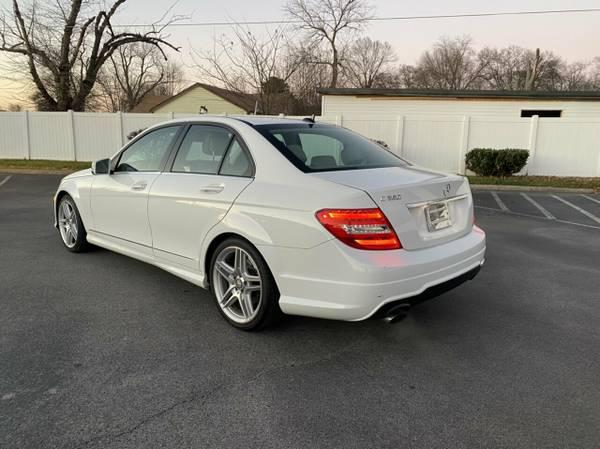Front_Fender: (54, 170, 94, 244)
Front_Left_Door: (93, 170, 163, 264)
Front_Left_Window: (103, 124, 183, 171)
Left_Taillight: (318, 207, 405, 250)
Rear_Bumper: (254, 224, 485, 319)
Rear_Fender: (212, 175, 376, 247)
Rear_Left_Door: (148, 173, 255, 288)
Rear_Left_Window: (161, 123, 255, 179)
Rear_Windshield: (254, 123, 407, 172)
Roof: (104, 114, 330, 175)
Tailgate: (310, 166, 473, 248)
Wheel: (210, 239, 276, 327), (55, 199, 81, 252)
